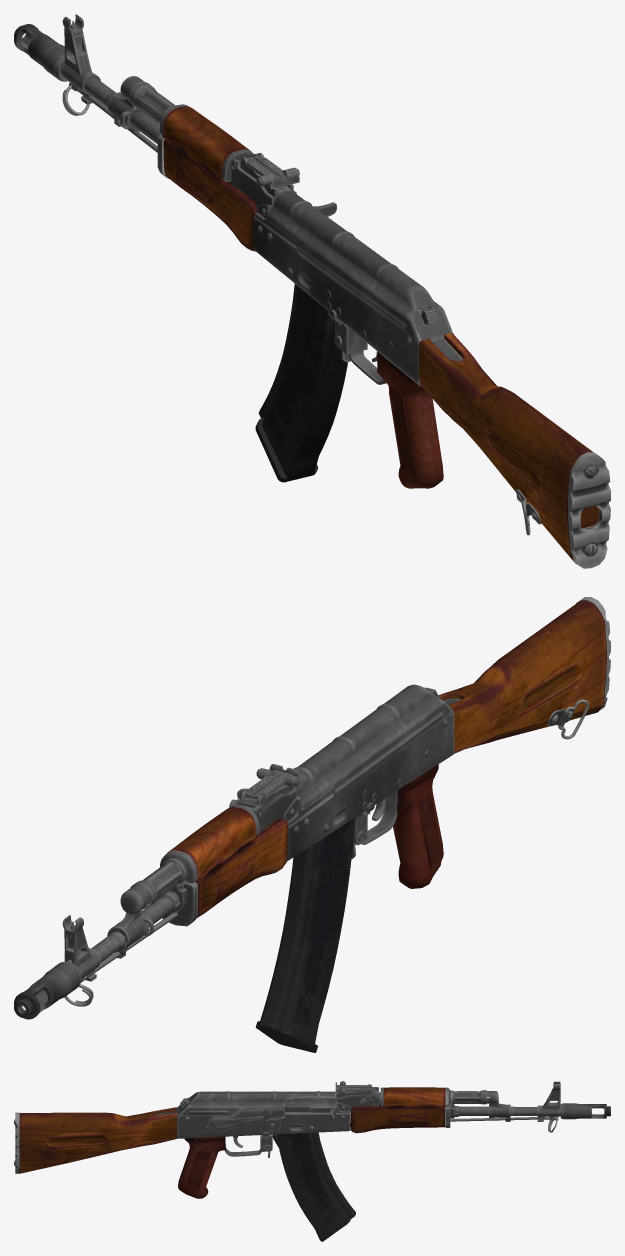
3 renders of one model, top to bottom at view 1: azimuth 30°, elevation 25°; view 2: azimuth 150°, elevation 25°; view 3: azimuth 270°, elevation 25°, orthographic. The views are drawn at different scales.
Visible parts, largest first — view 1: body, mag; view 2: body, mag; view 3: body, mag, bolt.
Part boxes in pixels (box(x1,y1,x2,y2)): body: box(14, 14, 610, 568); mag: box(255, 283, 347, 482); body: box(14, 597, 610, 1019); mag: box(255, 818, 355, 1052); body: box(14, 1081, 610, 1198); mag: box(272, 1132, 355, 1241); bolt: box(282, 1094, 336, 1120).
Size of the model in its own units: 0.0727 by 0.2523 by 0.88.
1 material, 1 textured.
